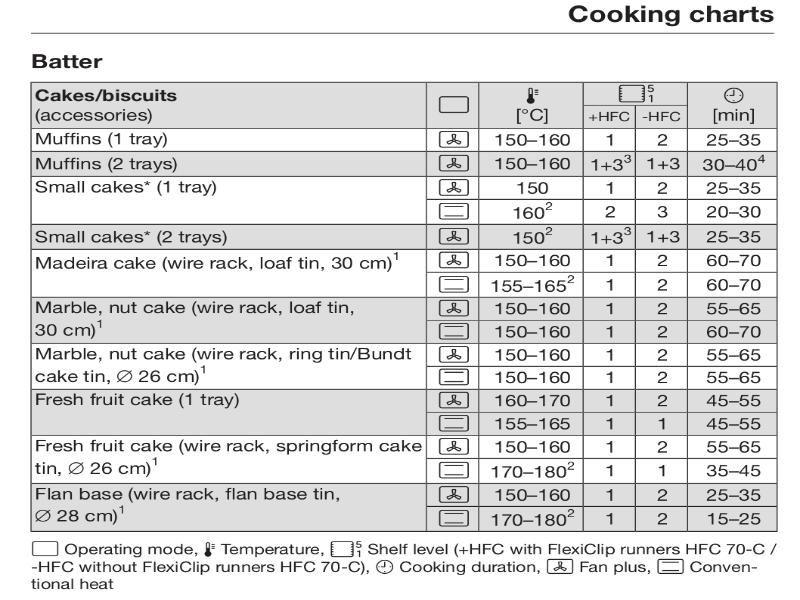border: (23, 70, 788, 536)
cell: (33, 344, 417, 384), (33, 438, 426, 477), (33, 297, 357, 340), (33, 484, 346, 524), (35, 249, 406, 277), (34, 86, 185, 123), (34, 390, 243, 413), (34, 178, 229, 200), (35, 224, 230, 246), (35, 129, 184, 150), (35, 152, 184, 173), (508, 85, 562, 125), (710, 87, 759, 127), (491, 507, 576, 527), (491, 460, 578, 479), (492, 274, 575, 293), (493, 201, 575, 219), (493, 226, 575, 244), (493, 250, 575, 268), (493, 298, 575, 316), (493, 322, 575, 340), (494, 345, 576, 363), (493, 367, 575, 385), (493, 391, 575, 409), (492, 414, 574, 432), (491, 437, 573, 455), (492, 485, 574, 503), (492, 130, 573, 147), (492, 155, 573, 172), (493, 178, 574, 195), (701, 153, 771, 171), (701, 177, 771, 195), (700, 202, 770, 220), (698, 226, 768, 244), (698, 250, 768, 268), (697, 275, 767, 293), (697, 299, 767, 317), (697, 322, 767, 340), (697, 345, 767, 363), (697, 368, 767, 386), (697, 391, 767, 409), (698, 415, 768, 433), (697, 437, 767, 455), (696, 461, 766, 479), (698, 485, 768, 503), (697, 510, 767, 528), (433, 91, 475, 119), (611, 83, 663, 103), (702, 132, 767, 148), (588, 224, 632, 246), (433, 413, 475, 434), (433, 435, 475, 456), (433, 460, 475, 481), (433, 484, 475, 505), (433, 508, 475, 529), (590, 153, 634, 173), (434, 129, 475, 150), (434, 152, 475, 173), (434, 176, 475, 197), (434, 201, 475, 222), (434, 226, 475, 247), (434, 250, 475, 271), (434, 273, 475, 294), (433, 298, 474, 319), (433, 320, 474, 341), (433, 344, 474, 365), (434, 367, 475, 388), (433, 389, 474, 410), (644, 228, 682, 245), (587, 110, 633, 124), (644, 156, 684, 171), (641, 110, 685, 123), (593, 180, 628, 196), (593, 202, 628, 218), (592, 252, 627, 268), (594, 276, 629, 292), (594, 299, 629, 315), (593, 323, 628, 339), (593, 346, 628, 362), (593, 369, 628, 385), (593, 392, 628, 408), (593, 415, 628, 431), (593, 438, 628, 454), (593, 461, 628, 477), (593, 485, 628, 501), (593, 510, 628, 526), (643, 510, 678, 526), (645, 486, 680, 502), (645, 461, 680, 477), (645, 438, 680, 454), (645, 415, 680, 431), (645, 392, 680, 408), (645, 369, 680, 385), (645, 346, 680, 362), (645, 323, 680, 339), (645, 300, 680, 316), (644, 276, 679, 292), (644, 252, 679, 268), (648, 132, 679, 148), (649, 180, 680, 196), (648, 202, 679, 218), (600, 132, 623, 148)
